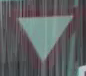Give way: (5, 4, 80, 63)
